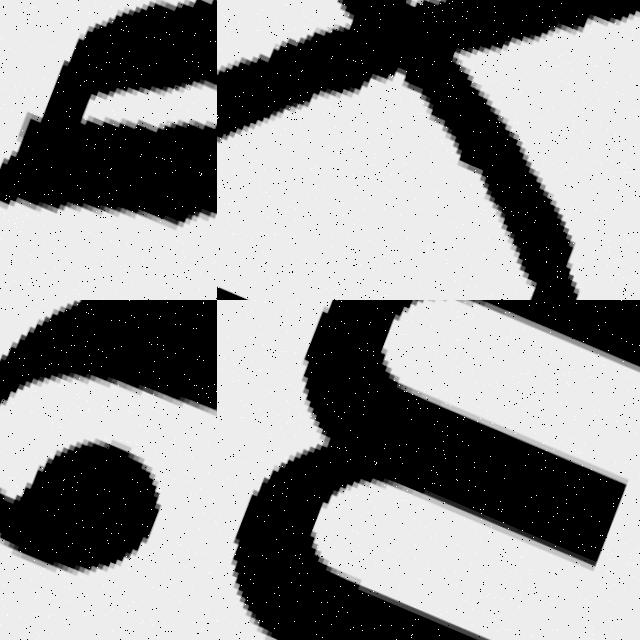C: (0, 300, 217, 417), (0, 435, 163, 573)
M: (217, 300, 640, 640)
Q: (0, 0, 217, 300)
X: (217, 0, 640, 300)
